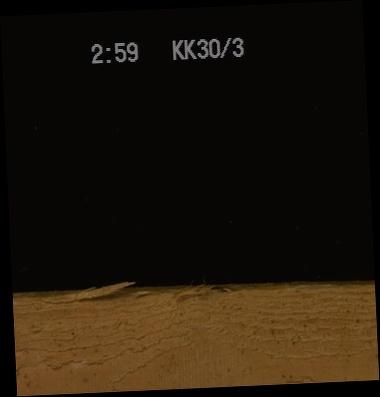split: (38, 290, 130, 303)
